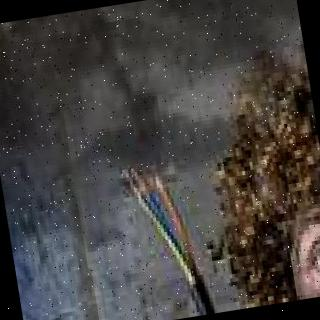smoke: (114, 0, 320, 252)
